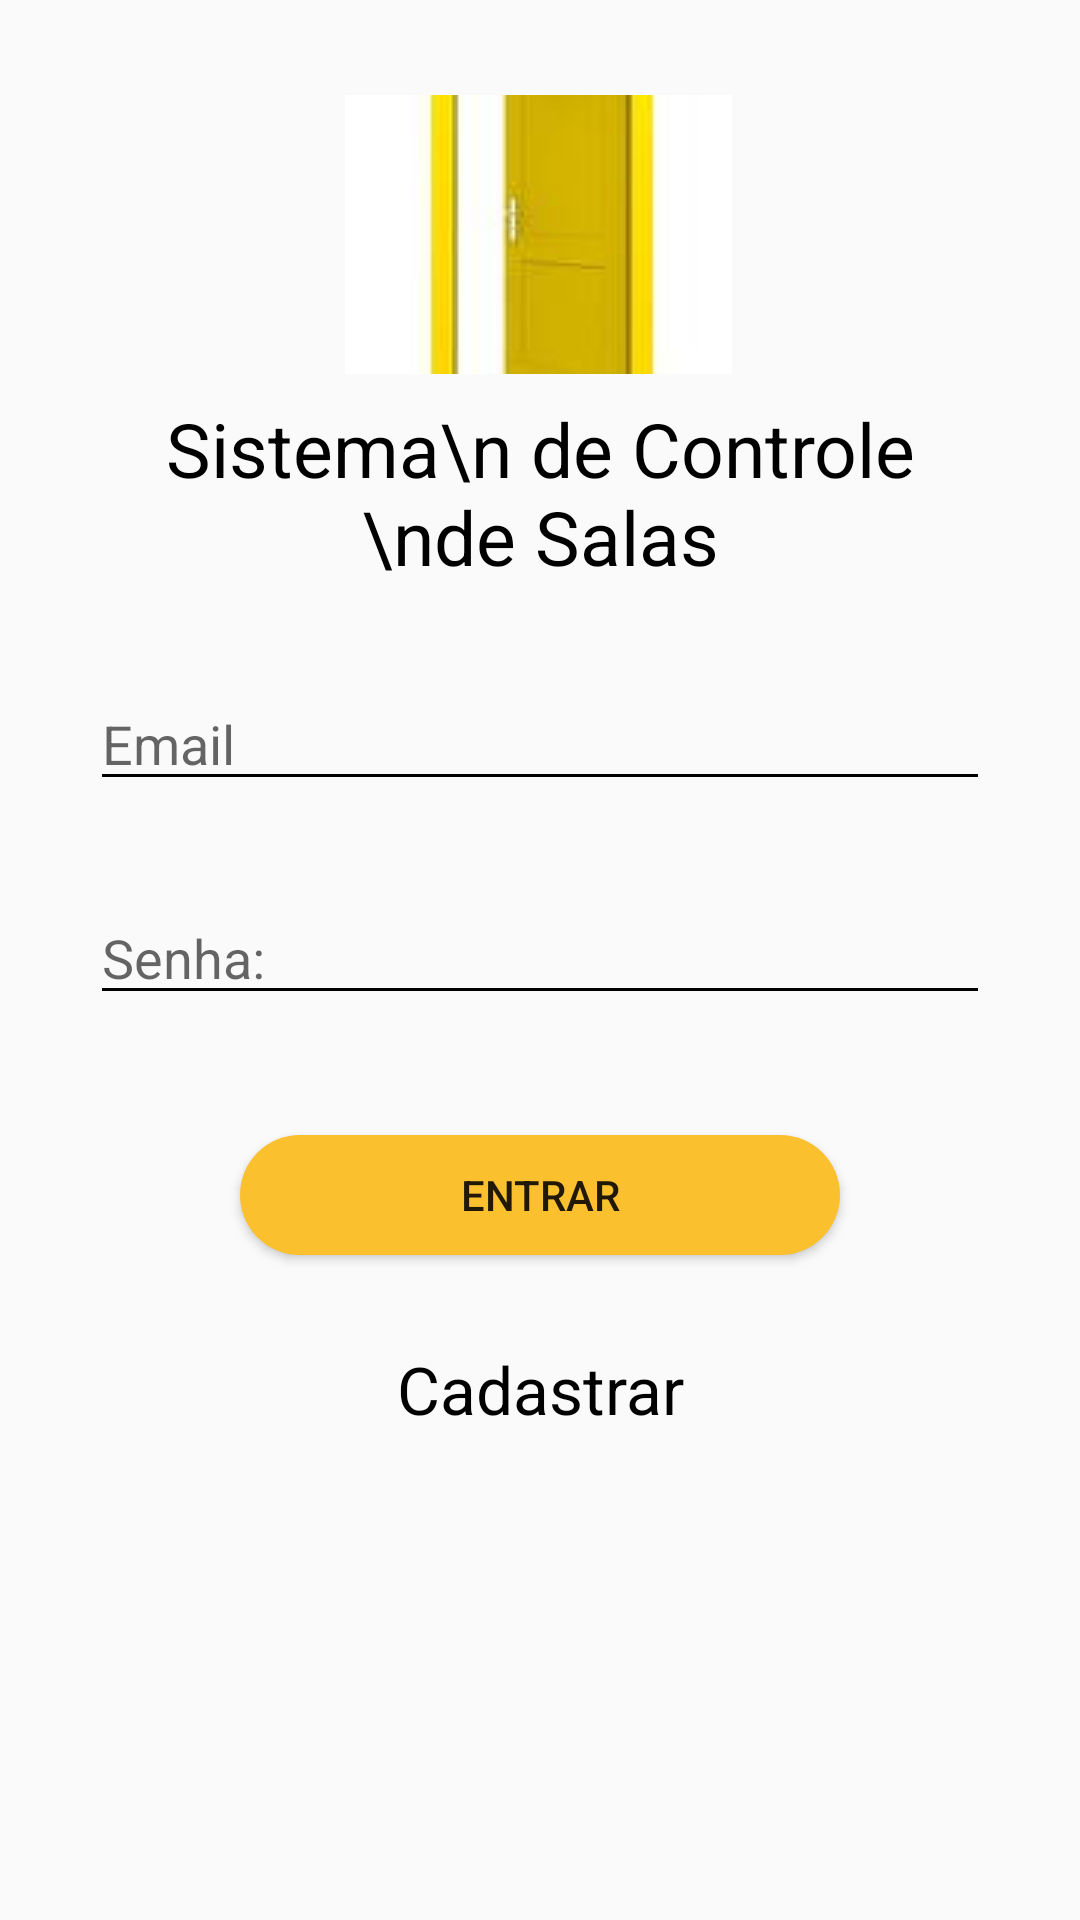

Locate icon controls on the screen. Image size 1080*1920, boxes as (x1, y1, x2, y2).
portaamarelo: (428, 95, 656, 374)
